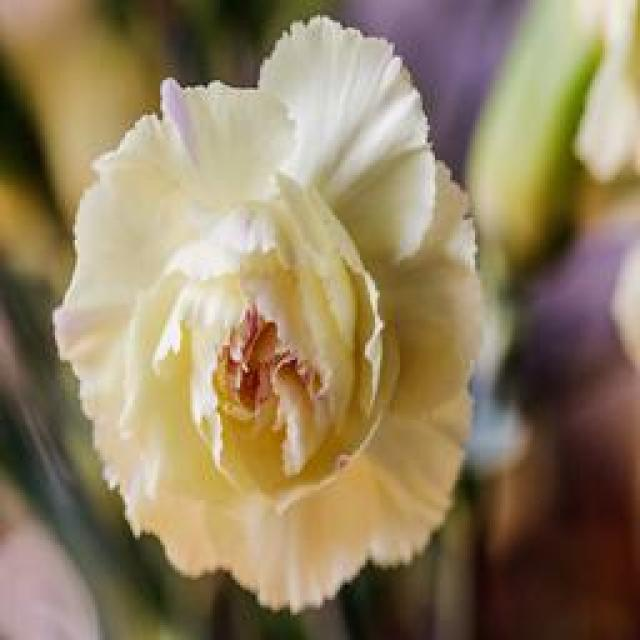carnation: (33, 17, 526, 606)
